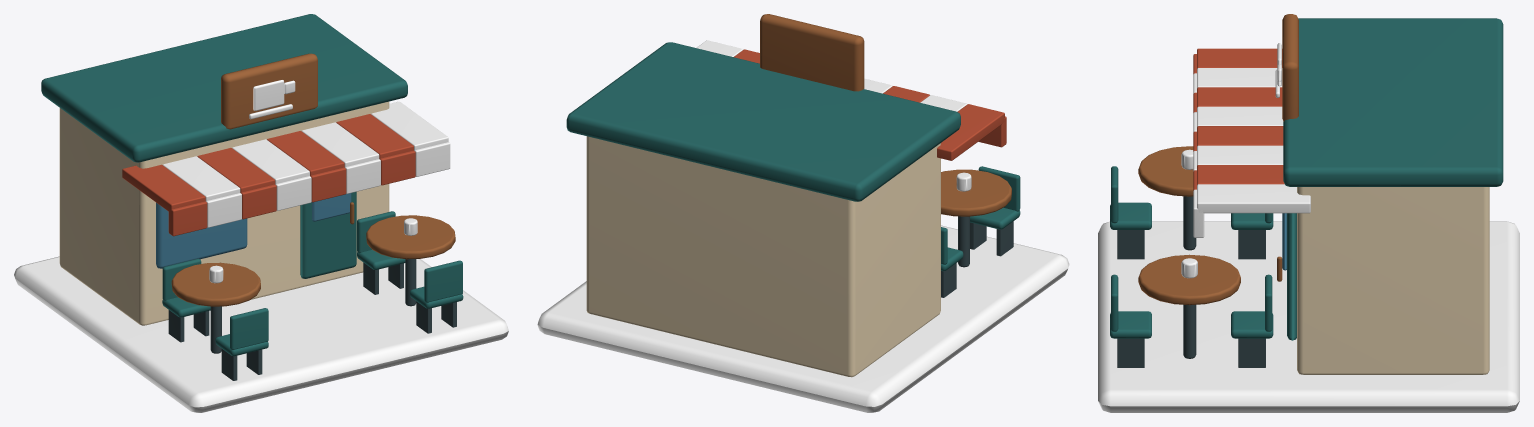
Rendered from cafe.glb.
3 views of the same model, side by side, from view 1: azimuth 30°, elevation 25°; view 2: azimuth 150°, elevation 25°; view 3: azimuth 270°, elevation 25° (orthographic). The views are drawn at different scales.
Parts seen in each view (by area): view 1: Batch_Porcelain_, Batch_Teal door_, Cafe walls, Batch_Terracotta roof_, Batch_Honey wood_, Batch_Dark metal_, Batch_Blue windows_; view 2: Cafe walls, Batch_Teal door_, Batch_Porcelain_, Batch_Honey wood_, Batch_Terracotta roof_, Batch_Dark metal_; view 3: Batch_Porcelain_, Batch_Teal door_, Cafe walls, Batch_Honey wood_, Batch_Terracotta roof_, Batch_Dark metal_.
Part boxes in pixels (x1,y1,x2,y2): Batch_Porcelain_: (14, 80, 508, 412); Batch_Teal door_: (41, 14, 463, 356); Cafe walls: (59, 101, 389, 325); Batch_Terracotta roof_: (122, 114, 415, 236); Batch_Honey wood_: (171, 53, 455, 306); Batch_Dark metal_: (168, 259, 456, 380); Batch_Blue windows_: (156, 193, 351, 268); Cafe walls: (586, 136, 940, 377); Batch_Teal door_: (566, 42, 1020, 271); Batch_Porcelain_: (537, 40, 1069, 412); Batch_Honey wood_: (760, 14, 1011, 216); Batch_Terracotta roof_: (733, 49, 1006, 160); Batch_Dark metal_: (941, 216, 1013, 297); Batch_Porcelain_: (1098, 43, 1519, 412); Batch_Teal door_: (1110, 18, 1503, 340); Cafe walls: (1297, 187, 1489, 374); Batch_Honey wood_: (1138, 14, 1298, 305); Batch_Terracotta roof_: (1193, 48, 1284, 190); Batch_Dark metal_: (1117, 196, 1265, 367).
Size of the model in its own units: 2.3 by 1.75 by 2.3.
